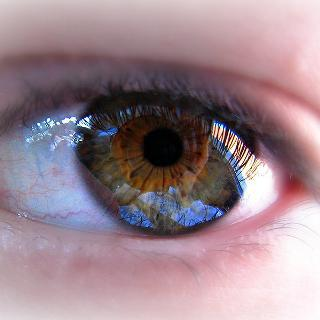pupil: (142, 127, 183, 167)
